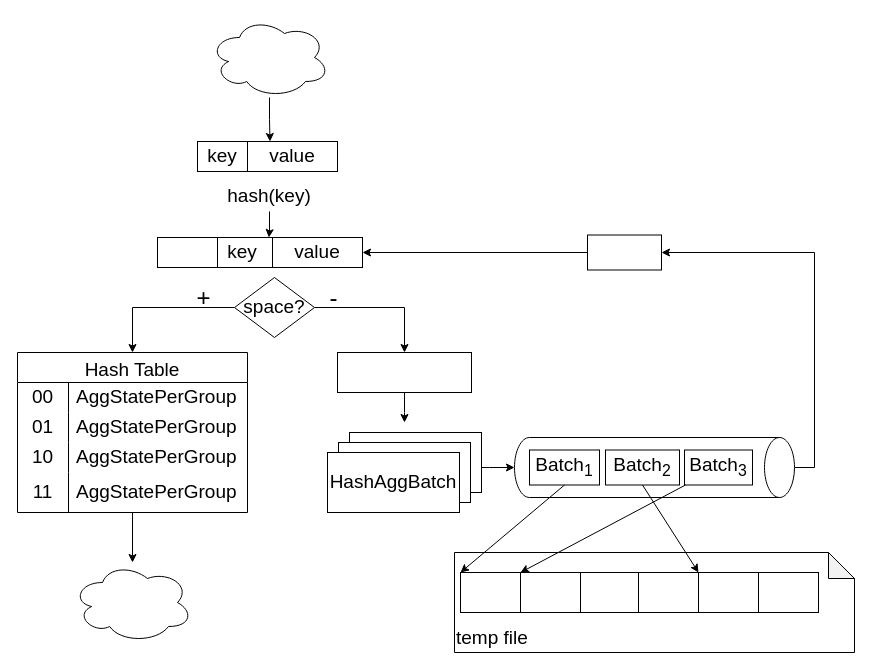
Some shapes in this 872 by 670 pixel diagram are drawn without their labels. The centre of each missing label's shape, as x and y in pixels:
Batch n: (624,252)
hash: (187,252)
HashAggSpill: (404,372)
Вход: (269,57)
Выход: (132,602)
